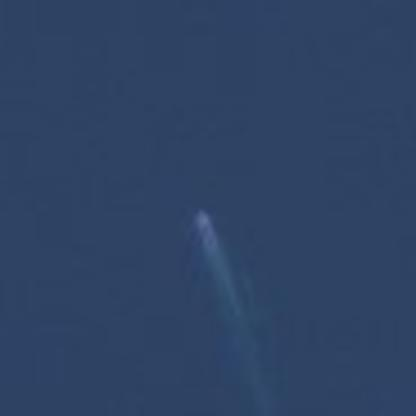ship: (187, 200, 225, 251)
